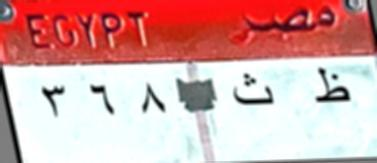3: (38, 78, 72, 126)
6: (87, 78, 120, 121)
8: (136, 79, 170, 122)
Thaa: (310, 62, 350, 112)
thaa: (228, 70, 280, 108)
